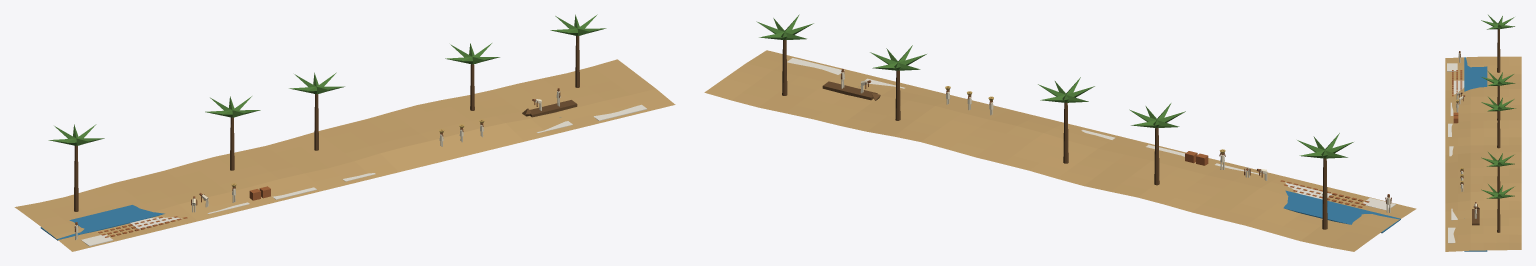
Rendered from mesopotamia_bg_near.fbx.
The picture shows the model from 3 angles, left to right: view 1: azimuth 30°, elevation 25°; view 2: azimuth 150°, elevation 25°; view 3: azimuth 270°, elevation 25°; orthographic projection. The views are drawn at different scales.
Parts seen in each view (by area): view 1: mesopotamia_bg_near; view 2: mesopotamia_bg_near; view 3: mesopotamia_bg_near.
Boxes of the visible parts, x1,y1,x2,y2 form: mesopotamia_bg_near: (14,14,675,251); mesopotamia_bg_near: (704,14,1416,251); mesopotamia_bg_near: (1445,15,1521,251).
Bounding box in the file's own units: 60 × 7.71 × 10.
